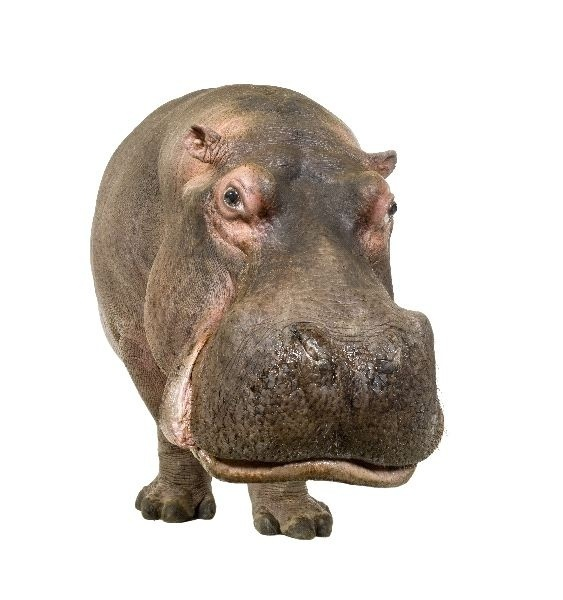hipopotamo: (73, 63, 475, 553)
